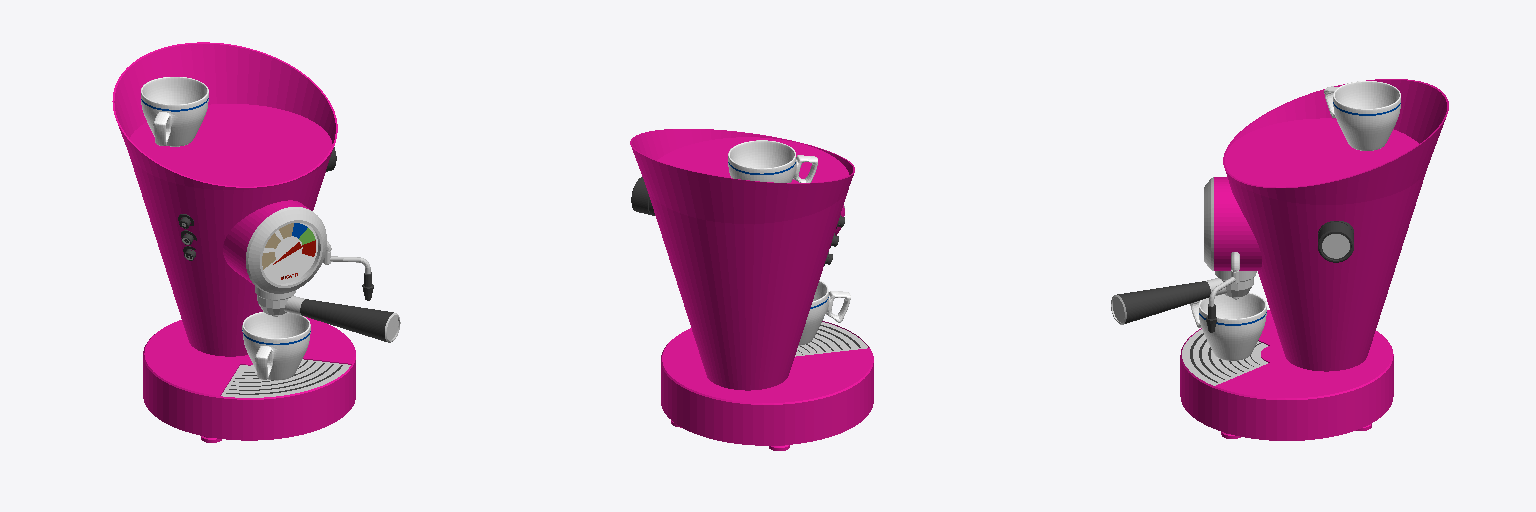
Rendered from martanda_bugati_coffe.obj.
3 renders of one model, left to right at view 1: azimuth 30°, elevation 25°; view 2: azimuth 150°, elevation 25°; view 3: azimuth 270°, elevation 25°, orthographic.
Visible parts, largest first — view 1: bugatti.001, cup2.001, cup1.001, filtro.001, led.001, tela2.001, tubo.001, tela1.001; view 2: bugatti.001, cup2.001, cup1.001, tela2.001, big_button.001; view 3: bugatti.001, cup2.001, cup1.001, filtro.001, tela2.001, big_button.001, tubo.001.
Part boxes in pixels (bbox=[...]): bugatti.001: bbox=[112, 42, 355, 442]; cup2.001: bbox=[141, 77, 208, 146]; cup1.001: bbox=[242, 312, 310, 380]; filtro.001: bbox=[257, 295, 400, 342]; led.001: bbox=[262, 223, 317, 283]; tela2.001: bbox=[221, 359, 350, 397]; tubo.001: bbox=[323, 241, 373, 300]; tela1.001: bbox=[226, 360, 342, 394]; bugatti.001: bbox=[630, 129, 873, 450]; cup2.001: bbox=[728, 140, 817, 182]; cup1.001: bbox=[798, 280, 850, 345]; tela2.001: bbox=[795, 322, 867, 356]; big_button.001: bbox=[631, 177, 654, 215]; bugatti.001: bbox=[1180, 79, 1448, 440]; cup2.001: bbox=[1324, 81, 1400, 150]; cup1.001: bbox=[1190, 293, 1266, 360]; filtro.001: bbox=[1111, 278, 1253, 324]; tela2.001: bbox=[1182, 329, 1267, 385]; big_button.001: bbox=[1318, 221, 1353, 262]; tubo.001: bbox=[1206, 252, 1239, 332].
Size of the model in its own units: 0.2027 by 0.2868 by 0.296.